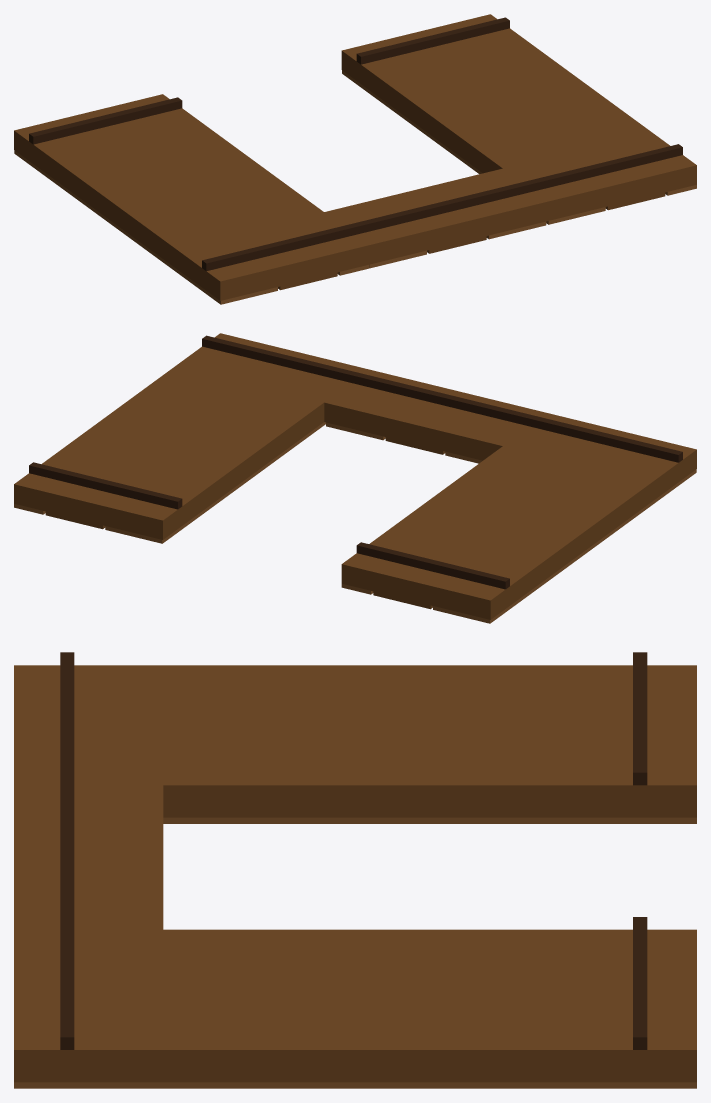
Rendered from WallExit.obj.
3 views of the same model, one above another, from view 1: azimuth 30°, elevation 25°; view 2: azimuth 150°, elevation 25°; view 3: azimuth 270°, elevation 25° (orthographic). The views are drawn at different scales.
Size of the model in its own units: 512 by 32 by 384.
